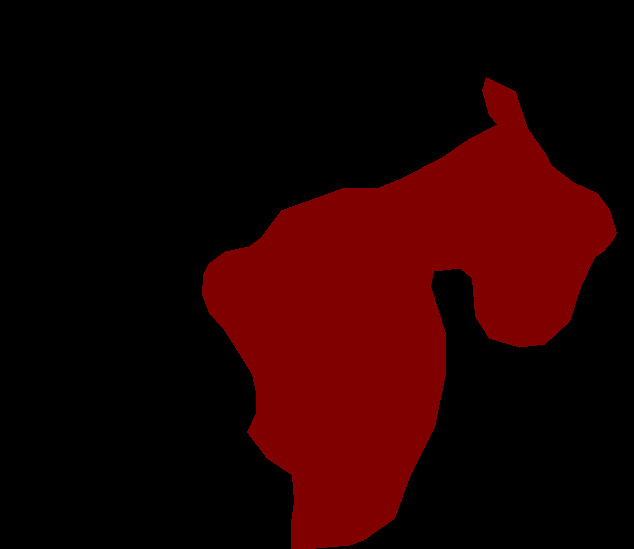fire: (202, 77, 616, 549)
